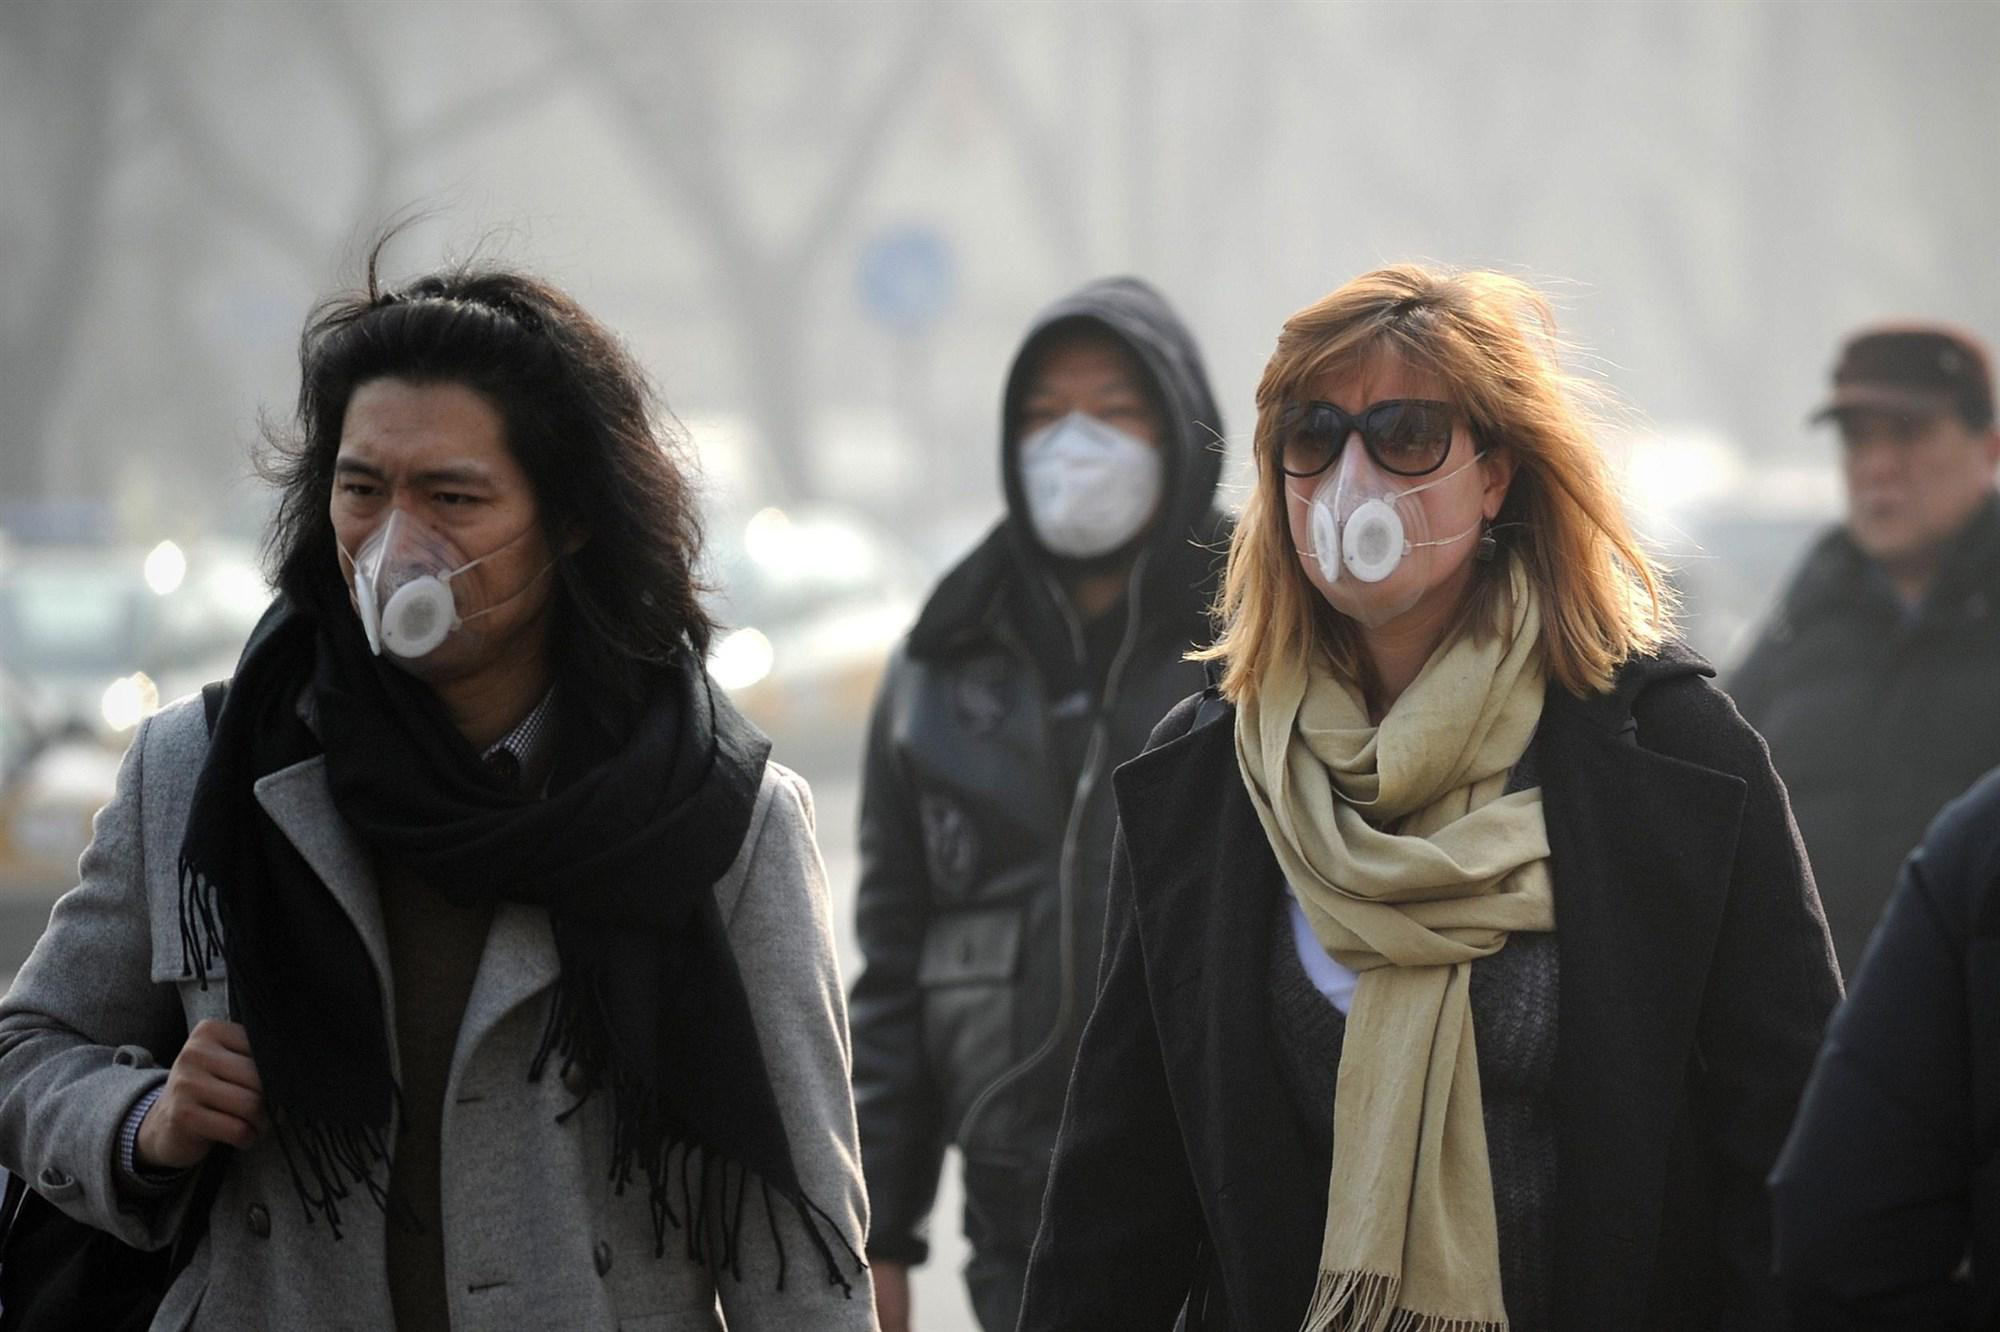mask: (325, 434, 527, 667), (1291, 384, 1484, 611), (1015, 372, 1160, 566)
none: (1835, 397, 1970, 557)
